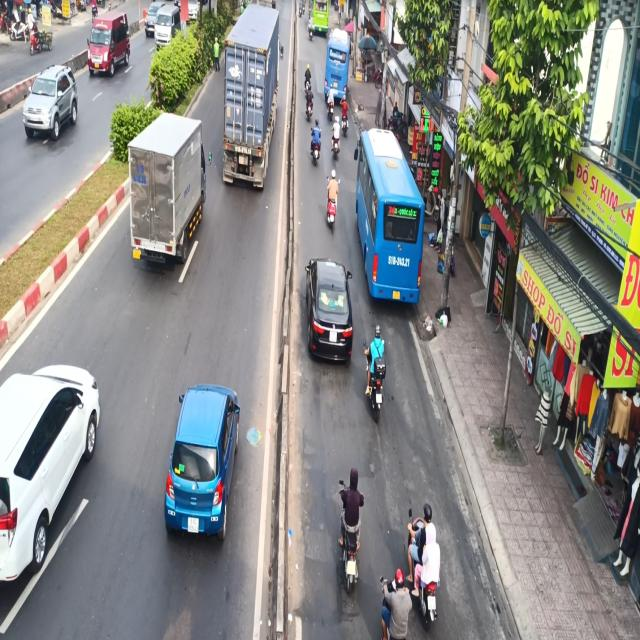bus: (353, 131, 428, 311), (320, 23, 350, 108)
car: (0, 346, 110, 590), (164, 367, 242, 567), (306, 250, 355, 372)
motor: (334, 464, 369, 604), (409, 495, 446, 622), (363, 318, 391, 422), (324, 167, 341, 233)
truck: (119, 100, 210, 278), (220, 0, 279, 201)
